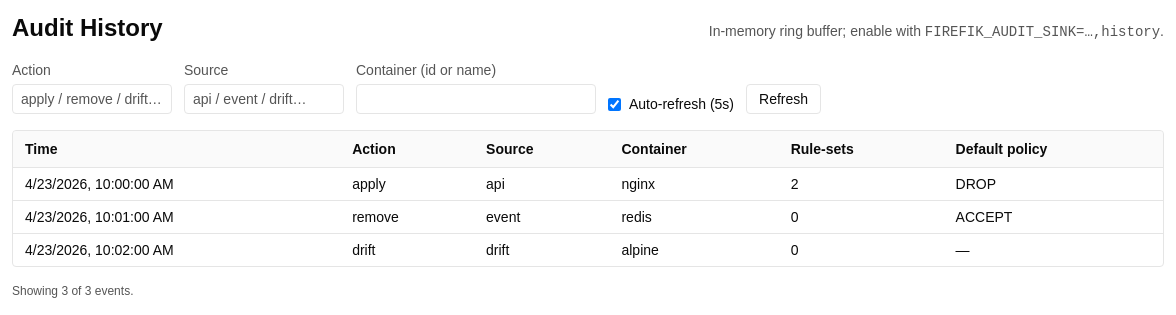
HistoryPage › filters events by container id or name substring
Expected: the text "nginx" is shown, [610,168,779,200]
Type "redis" into the field labelled "Container (id or name)".
click(476, 99); type("redis")  # box [356,84,596,114]
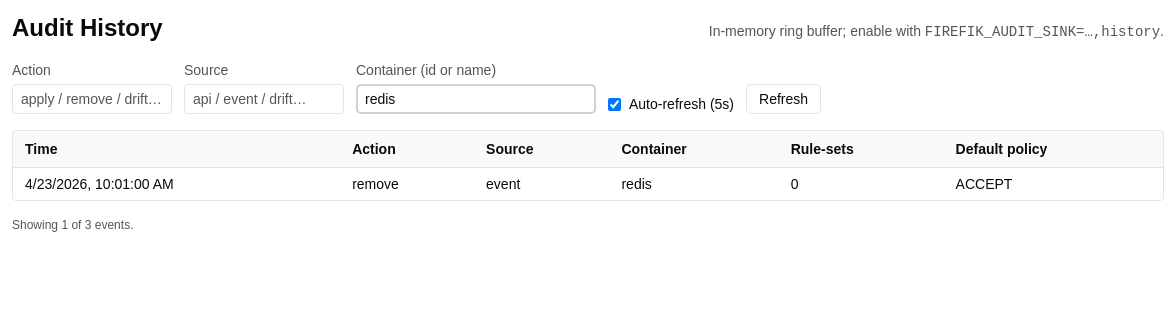
Expected: the text "redis" is shown, [610,168,779,200]
Expected: the text "nginx" is gone
